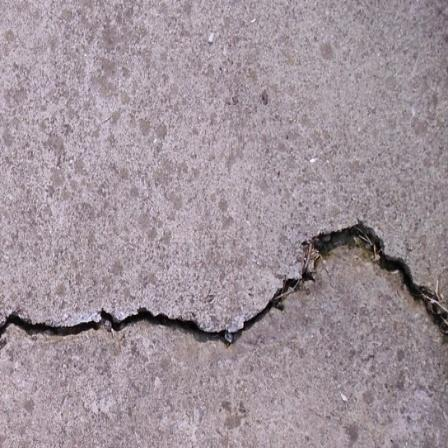crack: (0, 214, 448, 355)
